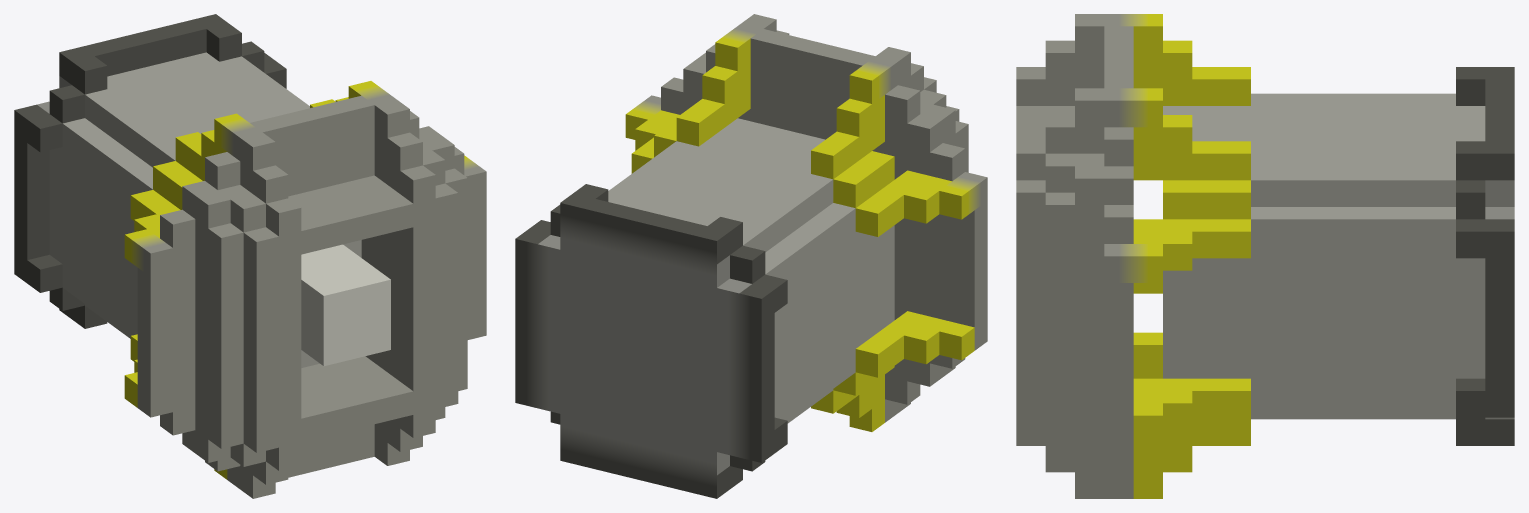
The model's file is Matrix_13.dae.
3 renders of one model, left to right at view 1: azimuth 30°, elevation 25°; view 2: azimuth 150°, elevation 25°; view 3: azimuth 270°, elevation 25°, orthographic. The views are drawn at different scales.
Visible parts, largest first — view 1: Matrix_13; view 2: Matrix_13; view 3: Matrix_13.
Part boxes in pixels (x1,y1,x2,y2): Matrix_13: (14,14,486,498); Matrix_13: (515,14,987,498); Matrix_13: (1016,14,1514,498).
Size of the model in its own units: 15 by 15 by 17.
Materials: 1 (1 with a texture image).
